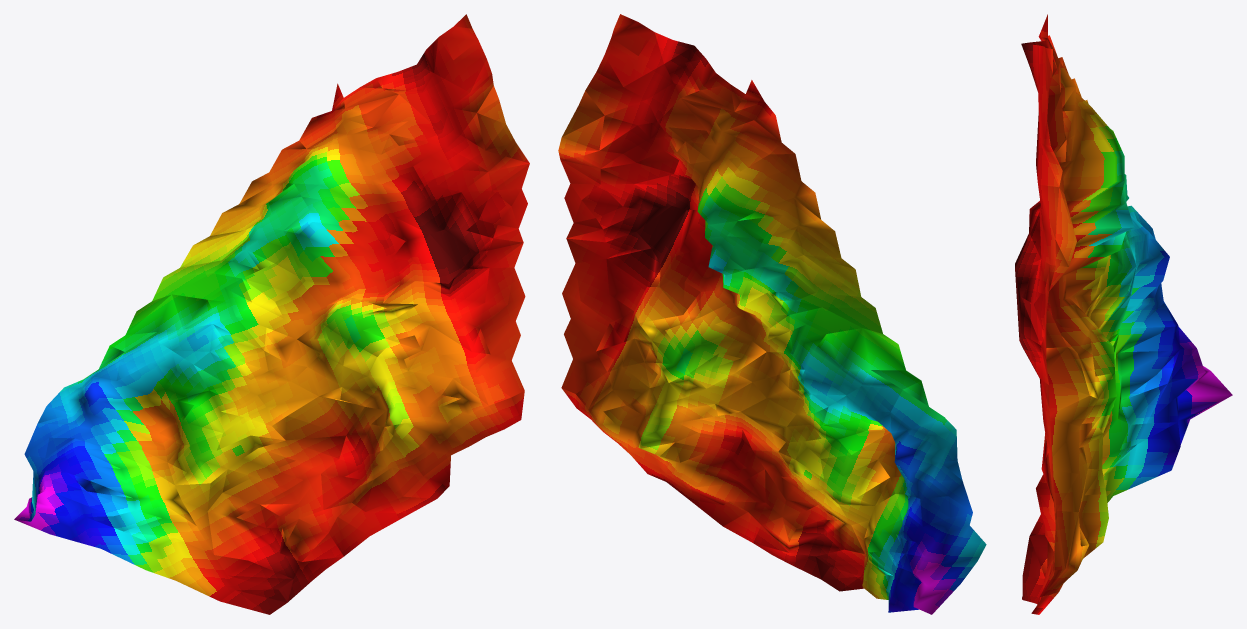
File: Topo_Embasamento_sismico_cubo.glb
3 views of the same model, side by side, from view 1: azimuth 30°, elevation 25°; view 2: azimuth 150°, elevation 25°; view 3: azimuth 270°, elevation 25° (orthographic). The views are drawn at different scales.
Parts seen in each view (by area): view 1: Surface; view 2: Surface; view 3: Surface.
Part boxes in pixels (x1=…): Surface: x1=14, y1=14, x2=529, y2=614; Surface: x1=558, y1=14, x2=986, y2=614; Surface: x1=1015, y1=14, x2=1232, y2=614.
Bounding box in the file's own units: 138372 × 154079 × 44932.
1 material, 1 textured.
